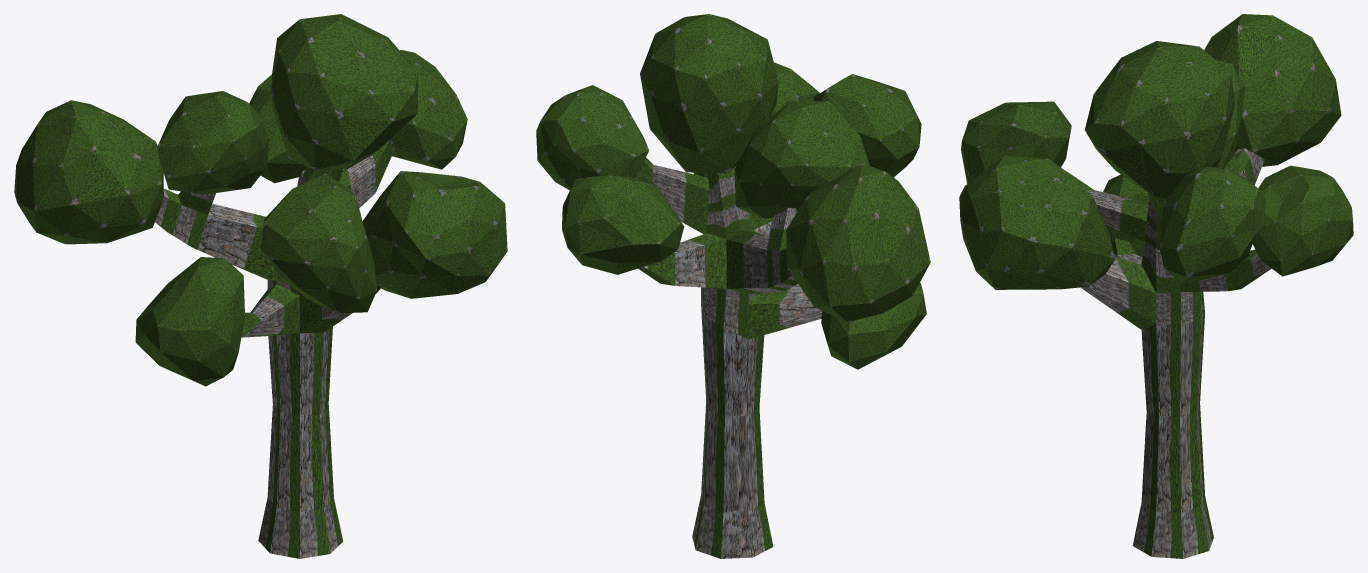
The model's file is tree1.obj.
3 views of the same model, side by side, from view 1: azimuth 30°, elevation 25°; view 2: azimuth 150°, elevation 25°; view 3: azimuth 270°, elevation 25° (orthographic).
Parts seen in each view (by area): view 1: Arbre_Normal_Cylinder.002; view 2: Arbre_Normal_Cylinder.002; view 3: Arbre_Normal_Cylinder.002.
Part boxes in pixels (x1,y1,x2,y2): Arbre_Normal_Cylinder.002: (14, 14, 507, 558); Arbre_Normal_Cylinder.002: (536, 14, 930, 558); Arbre_Normal_Cylinder.002: (959, 14, 1353, 558).
Size of the model in its own units: 3.18 by 3.92 by 2.75.
